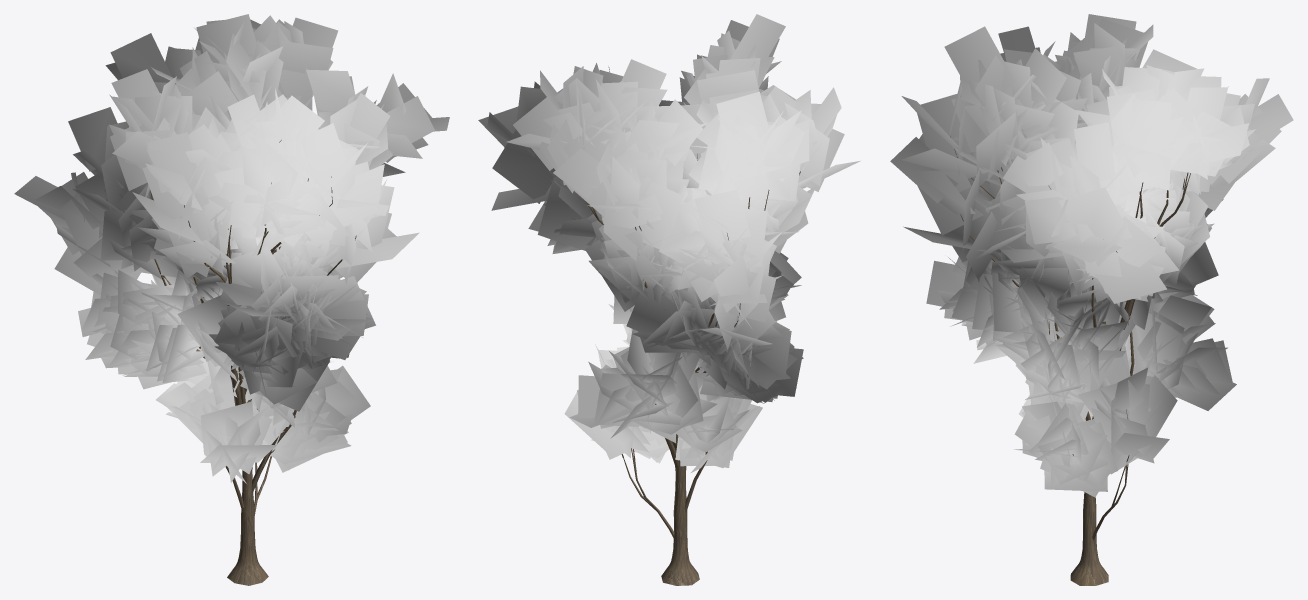
The model's file is Tall_Bush_1A1.fbx.
The picture shows the model from 3 angles, left to right: view 1: azimuth 30°, elevation 25°; view 2: azimuth 150°, elevation 25°; view 3: azimuth 270°, elevation 25°; orthographic projection.
Visible parts, largest first — view 1: Tall_Bush_1A1; view 2: Tall_Bush_1A1; view 3: Tall_Bush_1A1.
Boxes of the visible parts, x1,y1,x2,y2 form: Tall_Bush_1A1: (14,14,449,585); Tall_Bush_1A1: (478,14,860,585); Tall_Bush_1A1: (890,14,1293,585).
Size of the model in its own units: 522 by 734 by 497.
